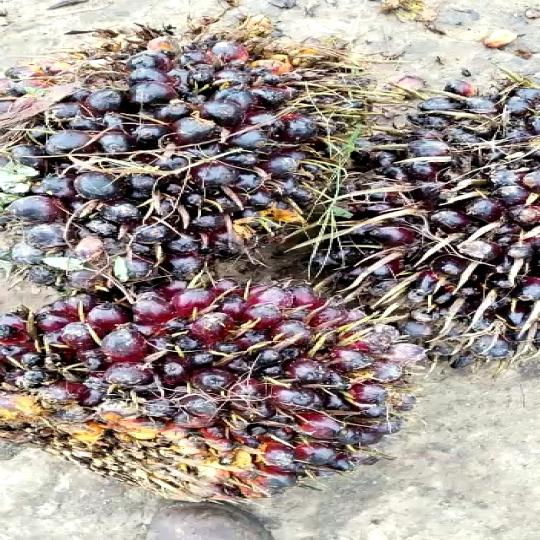kurang masak: (0, 287, 404, 492), (0, 22, 332, 260), (306, 91, 540, 383)
